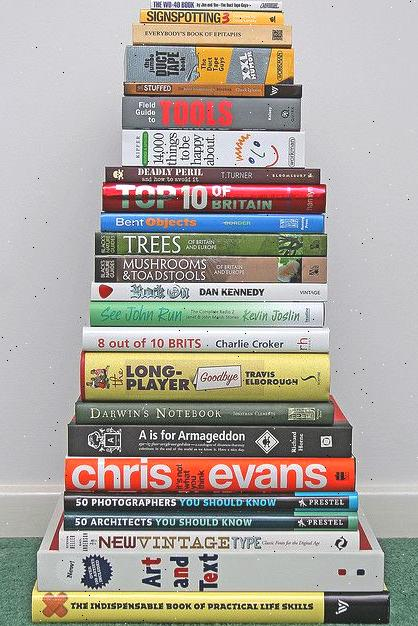book: (34, 584, 371, 623), (82, 351, 334, 401), (51, 518, 371, 555), (67, 456, 355, 493), (69, 425, 349, 458), (76, 400, 340, 427), (127, 44, 292, 85), (85, 325, 331, 352), (125, 131, 302, 168), (125, 96, 302, 131), (96, 257, 322, 284), (106, 183, 321, 211), (70, 492, 353, 513), (101, 232, 325, 257), (92, 281, 328, 304), (114, 166, 319, 185), (137, 24, 292, 45), (140, 9, 284, 25), (153, 0, 281, 10)
